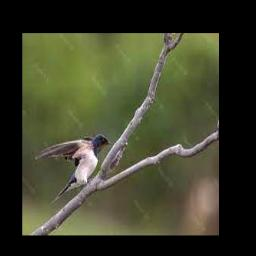Swallow: (35, 134, 111, 203)
